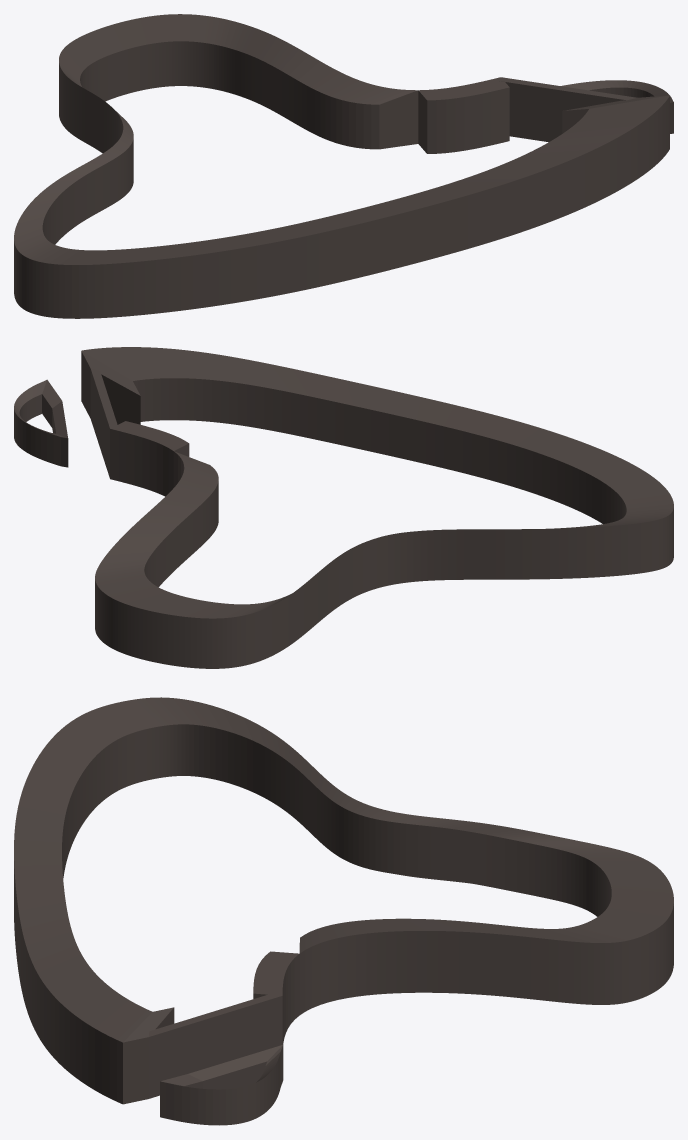
The model's file is colliderInterno.fbx.
3 views of the same model, one above another, from view 1: azimuth 30°, elevation 25°; view 2: azimuth 150°, elevation 25°; view 3: azimuth 270°, elevation 25° (orthographic). The views are drawn at different scales.
Visible parts, largest first — view 1: NurbsPath.001, NurbsPath.000; view 2: NurbsPath.001, NurbsPath.000; view 3: NurbsPath.001, NurbsPath.000.
Part boxes in pixels (box(x1,y1,x2,y2)): NurbsPath.001: box(14, 14, 669, 318); NurbsPath.000: box(561, 80, 673, 133); NurbsPath.001: box(81, 347, 673, 668); NurbsPath.000: box(14, 379, 68, 467); NurbsPath.001: box(14, 697, 673, 1104); NurbsPath.000: box(160, 1045, 283, 1125).
Bounding box in the file's own units: 2840 × 329 × 2117.
